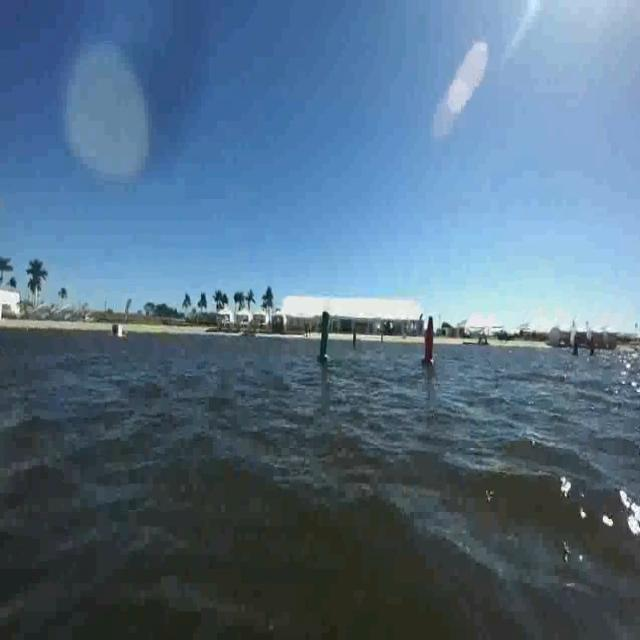green-column-buoy: (316, 310, 334, 364)
red-column-buoy: (420, 315, 437, 367)
